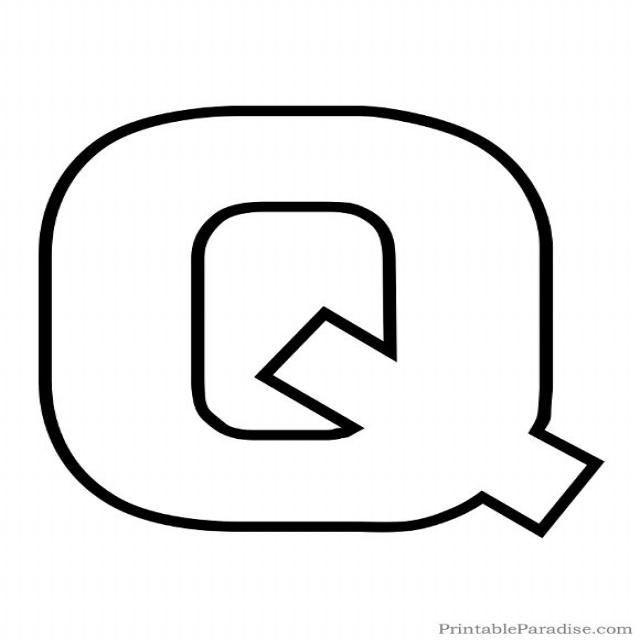Q: (25, 55, 624, 568)
